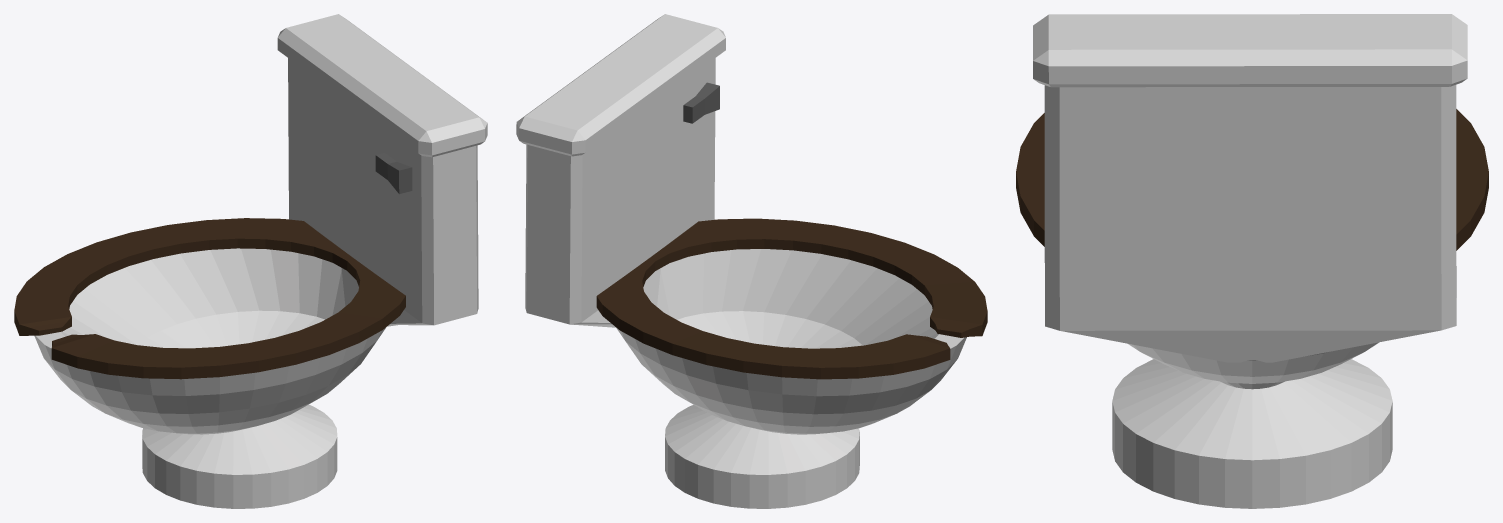
File: toilet_fixed.fbx
3 renders of one model, left to right at view 1: azimuth 30°, elevation 25°; view 2: azimuth 150°, elevation 25°; view 3: azimuth 270°, elevation 25°, orthographic. The views are drawn at different scales.
Visible parts, largest first — view 1: Sphere; view 2: Sphere; view 3: Sphere.
Boxes of the visible parts, left/top/right/bottom form: Sphere: left=14, top=14, right=487, bottom=508; Sphere: left=516, top=14, right=987, bottom=508; Sphere: left=1016, top=14, right=1488, bottom=508.
Bounding box in the file's own units: 281 × 255 × 211.
